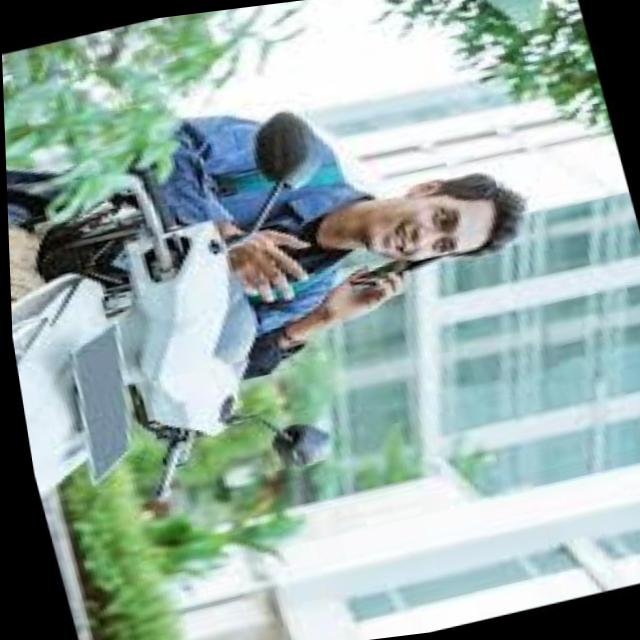USING_MOBILE: (219, 248, 466, 380)
